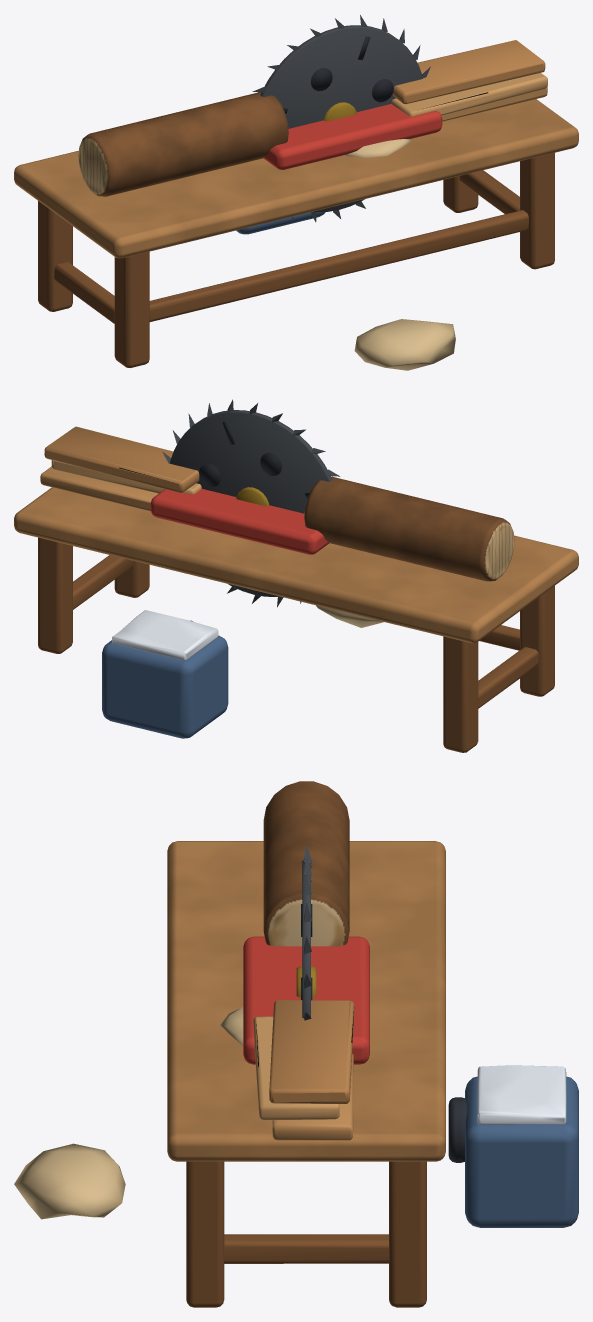
The model's file is station_sawmill.glb.
The picture shows the model from 3 angles, top to bottom: view 1: azimuth 30°, elevation 25°; view 2: azimuth 150°, elevation 25°; view 3: azimuth 270°, elevation 25°; orthographic projection. The views are drawn at different scales.
Parts seen in each view (by area): view 1: brace; view 2: brace; view 3: brace.
Part boxes in pixels (x1,y1,x2,y2): brace: [14, 15, 578, 370]; brace: [14, 399, 578, 752]; brace: [14, 781, 578, 1307].
Bounding box in the file's own units: 2.84 × 1.58 × 2.23.
1 material, 1 textured.
